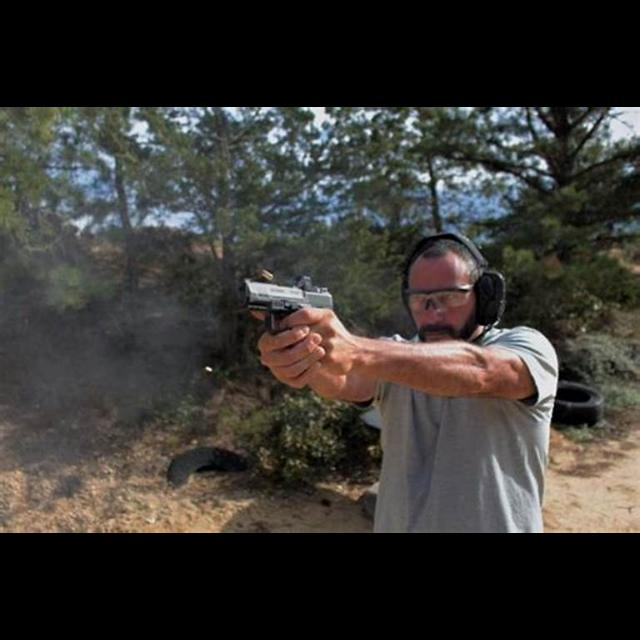handgun: (234, 272, 338, 336)
